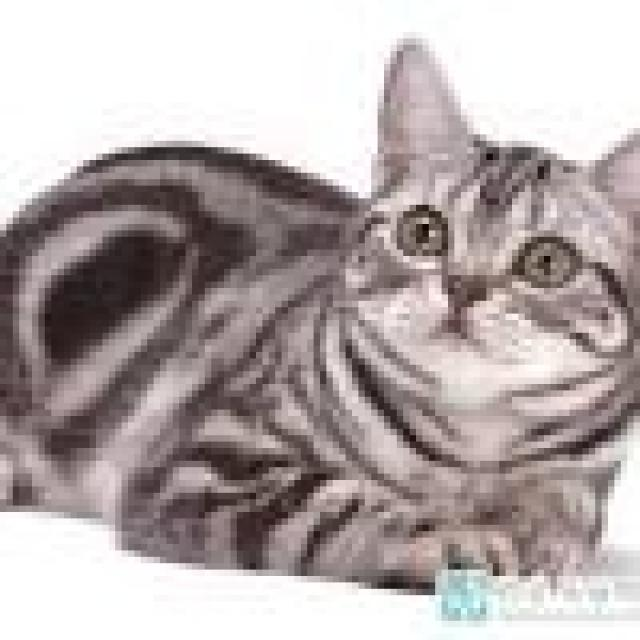cat-face: (309, 61, 640, 448)
